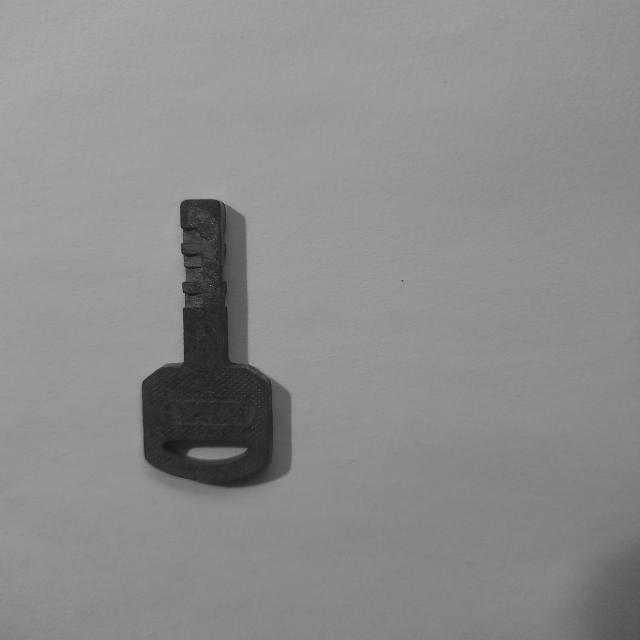key: (141, 200, 272, 483)
